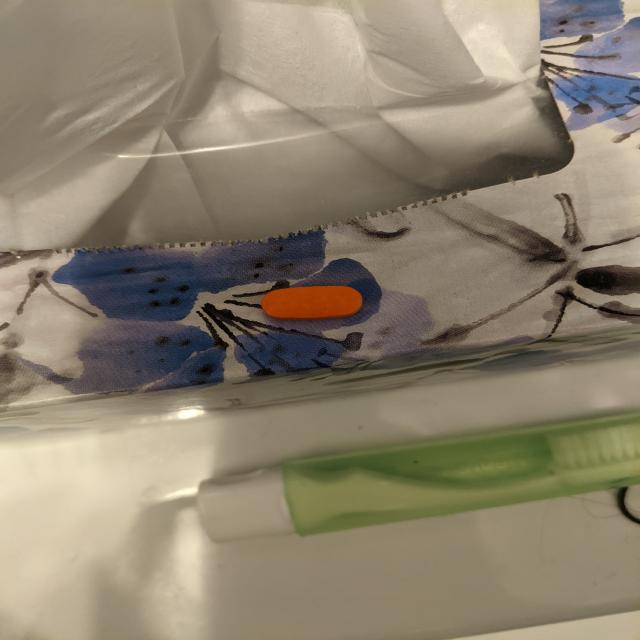non-organic waste: (260, 284, 364, 321)
